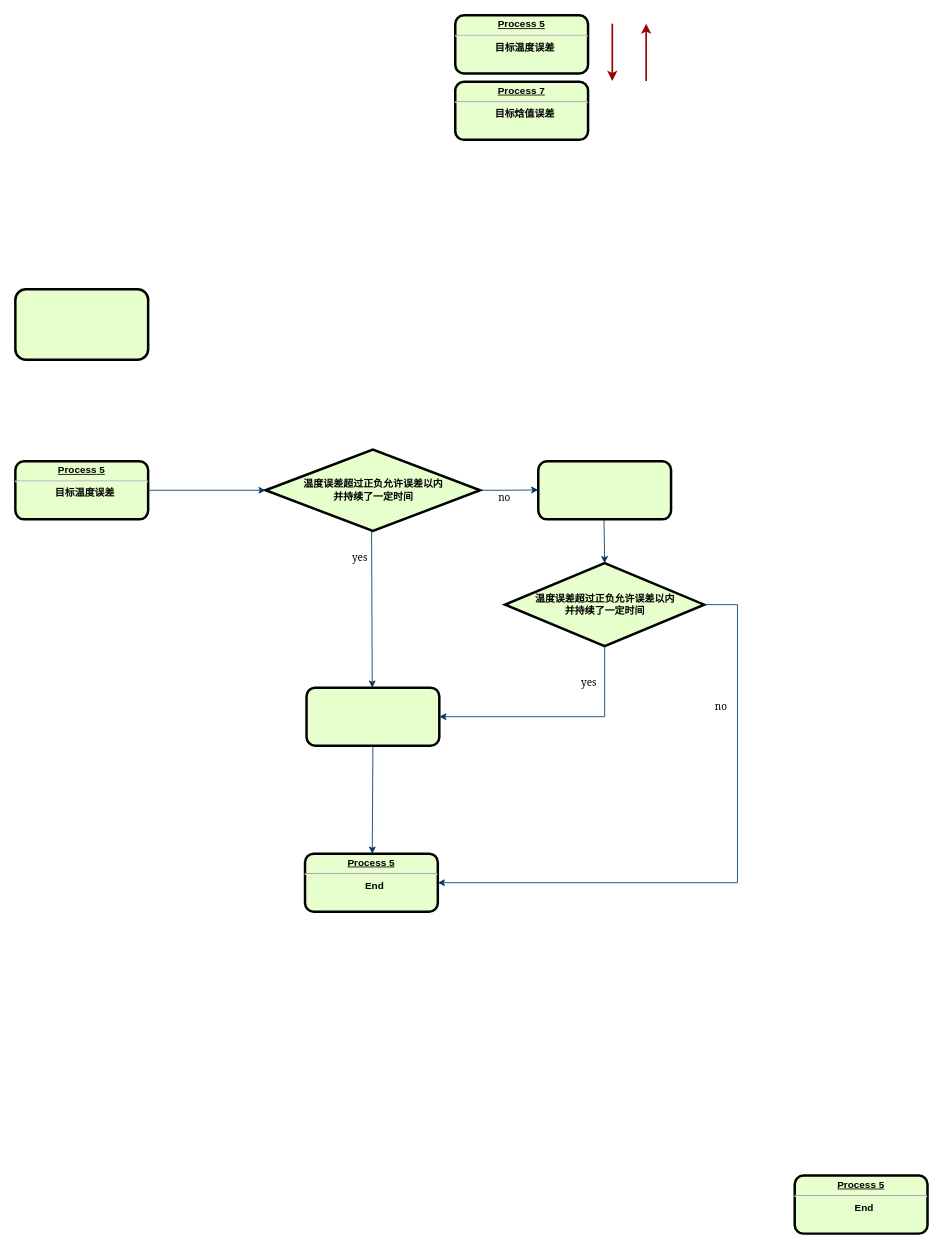
Some shapes in this 943 by 1249 pixel diagram are drawn without their labels. Here are the shapes that lost their labels. From the top down, the centre of each, then its label:
At (81,324): "Process 7 根据目标焓值进行前馈控制".
At (604,490): "Process 7 按目标焓值误差进行计算".
At (372,716): "Process 5 按目标温度误差进行计算".
